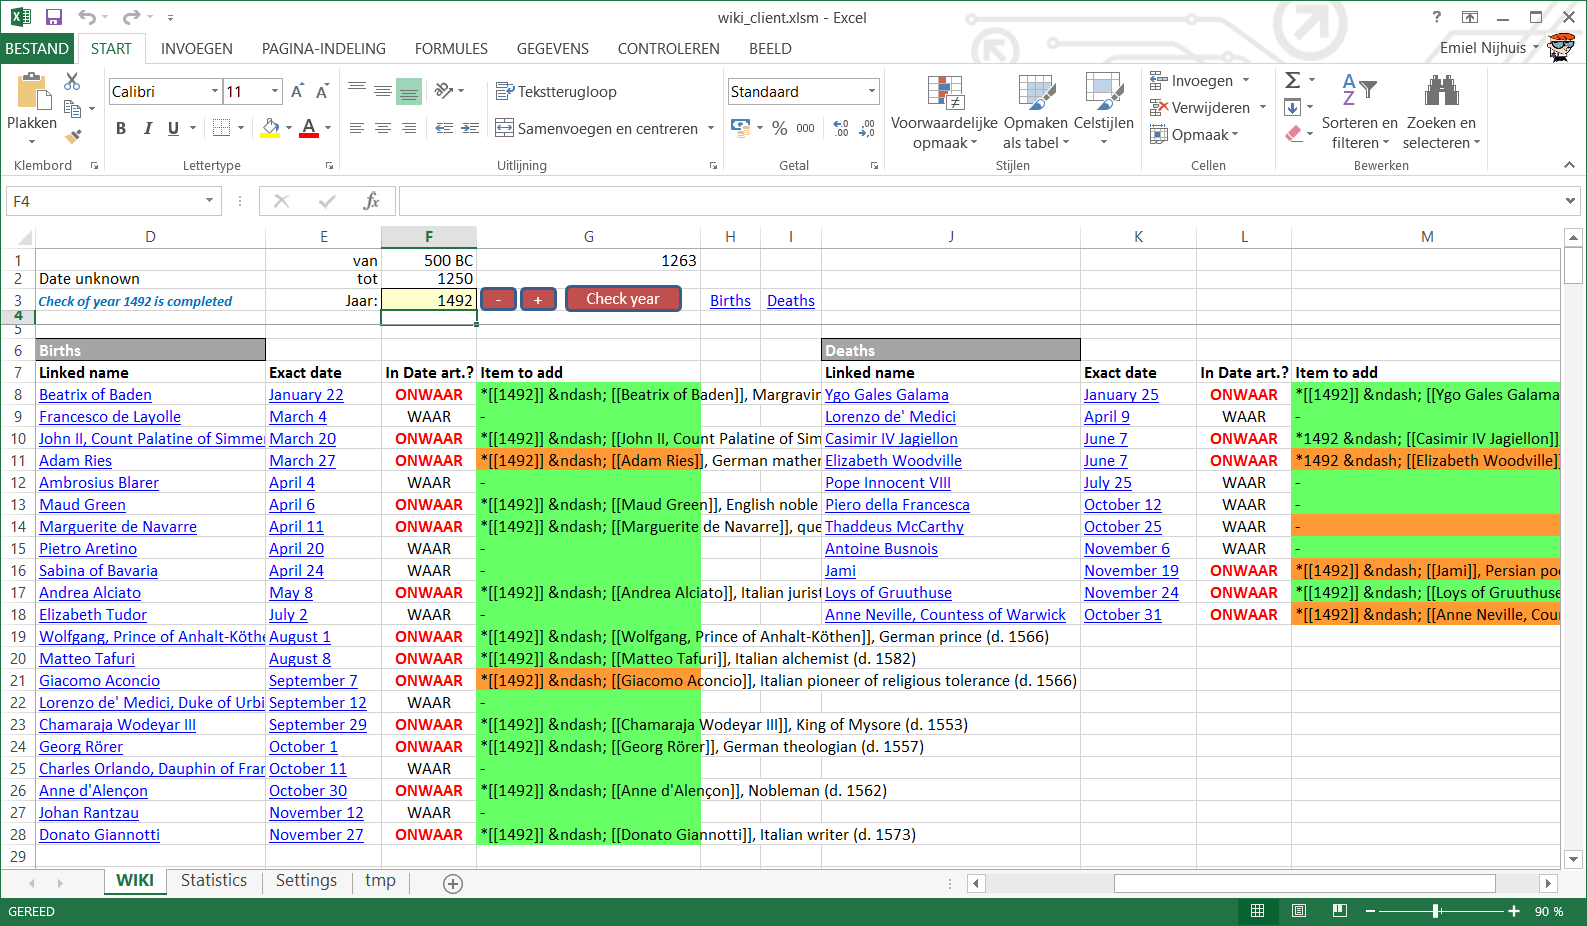button: (890, 74, 998, 151), (1114, 874, 1496, 893), (1402, 73, 1480, 149), (1322, 73, 1397, 149), (1002, 74, 1070, 152), (494, 116, 698, 138), (1075, 71, 1134, 146), (564, 284, 682, 312), (7, 71, 58, 132), (494, 80, 618, 103), (168, 870, 262, 895), (260, 40, 389, 57), (1, 33, 74, 64), (264, 870, 352, 895), (77, 32, 145, 62), (1149, 97, 1251, 117), (1196, 383, 1291, 403), (614, 39, 724, 56), (1148, 69, 1235, 91), (1148, 123, 1230, 144), (1439, 39, 1527, 57), (105, 870, 166, 895), (412, 39, 492, 57), (158, 39, 235, 57), (353, 870, 409, 895), (512, 39, 589, 56), (1238, 900, 1280, 926), (479, 287, 516, 311), (519, 287, 555, 311), (747, 40, 795, 56), (395, 78, 422, 105), (1564, 247, 1583, 284), (9, 6, 34, 28), (728, 117, 753, 139), (259, 117, 281, 139), (62, 97, 83, 120), (76, 7, 98, 28), (298, 118, 319, 139), (120, 8, 142, 28), (1282, 95, 1302, 117), (433, 80, 454, 100), (443, 873, 463, 894), (62, 69, 80, 91), (361, 189, 380, 211), (44, 7, 64, 26), (830, 118, 850, 138), (1284, 123, 1304, 143), (210, 117, 231, 136), (1283, 69, 1302, 90), (857, 118, 876, 138), (1539, 874, 1558, 893), (967, 874, 986, 893), (272, 191, 291, 209), (1564, 228, 1583, 247), (1564, 850, 1583, 869), (63, 128, 82, 146), (289, 79, 306, 98), (770, 119, 789, 137), (458, 120, 481, 134), (319, 193, 337, 209), (433, 120, 454, 134), (373, 84, 392, 98), (314, 80, 330, 98), (373, 121, 392, 134), (1291, 903, 1307, 918), (345, 79, 366, 91), (1461, 10, 1479, 24), (400, 121, 418, 136), (1527, 9, 1543, 24), (1561, 9, 1576, 24), (165, 120, 181, 136), (1332, 903, 1348, 918), (348, 121, 366, 134), (795, 122, 816, 133), (114, 119, 127, 136), (1431, 8, 1443, 25), (1507, 904, 1521, 918), (141, 120, 154, 136), (1562, 159, 1577, 171), (1496, 11, 1509, 23), (85, 104, 99, 114), (164, 11, 175, 23), (25, 134, 37, 146), (1564, 195, 1577, 205), (1432, 903, 1439, 919), (324, 160, 335, 171), (89, 159, 99, 171), (235, 192, 242, 207), (1530, 41, 1541, 51), (870, 160, 879, 171), (143, 12, 155, 21), (208, 86, 220, 95), (708, 160, 717, 170), (99, 12, 110, 21), (321, 123, 333, 131), (187, 122, 197, 131), (1240, 75, 1250, 84), (1306, 75, 1316, 84), (204, 195, 214, 204), (282, 123, 293, 131), (29, 877, 36, 889), (234, 123, 246, 130), (455, 86, 465, 94), (705, 123, 715, 131), (1257, 103, 1268, 109), (57, 877, 64, 889), (867, 86, 876, 94), (1305, 129, 1314, 137), (1364, 908, 1377, 914), (270, 87, 280, 94), (754, 123, 764, 130), (1304, 103, 1314, 109), (1230, 130, 1239, 137)
common: (8, 906, 55, 917), (1534, 905, 1564, 917)
container: (1, 223, 1587, 897), (1, 63, 1587, 175), (1, 1, 1587, 63), (1, 174, 1587, 224), (1, 870, 1587, 898), (338, 63, 723, 175), (1, 900, 1586, 926), (884, 63, 1141, 175), (104, 63, 338, 175), (1275, 63, 1487, 175), (723, 63, 884, 175), (1141, 63, 1275, 175), (1564, 228, 1583, 869), (1, 63, 104, 175), (1487, 63, 1587, 175), (967, 874, 1558, 893), (494, 116, 717, 140), (6, 69, 60, 148), (258, 185, 395, 215), (1363, 901, 1522, 920), (1149, 97, 1270, 118), (1148, 68, 1253, 91), (1148, 123, 1241, 146), (1439, 39, 1542, 58), (62, 96, 101, 121), (298, 117, 334, 139), (76, 7, 111, 29), (259, 117, 294, 139), (1282, 95, 1314, 118), (121, 8, 156, 29), (210, 117, 247, 137), (1283, 69, 1316, 90), (1284, 123, 1314, 144), (164, 119, 198, 136)
header: (715, 8, 870, 26), (495, 157, 548, 174), (182, 159, 241, 173), (13, 158, 72, 172), (994, 157, 1032, 175), (1353, 159, 1408, 170), (1189, 157, 1226, 173), (778, 158, 809, 172)
image: (1547, 33, 1576, 63)
table: (1, 225, 1562, 866)
table-cell: (1291, 224, 1561, 248), (821, 224, 1080, 248), (1291, 535, 1561, 558), (1291, 755, 1561, 778), (821, 689, 1080, 712), (821, 821, 1080, 844), (1291, 403, 1561, 426), (1291, 426, 1561, 448), (1291, 448, 1561, 470), (1291, 470, 1561, 492), (1291, 513, 1561, 535), (1291, 558, 1561, 580), (1291, 580, 1561, 602), (1291, 602, 1561, 624), (1291, 624, 1561, 646), (1291, 646, 1561, 668), (1291, 668, 1561, 690), (1291, 690, 1561, 712), (1291, 778, 1561, 800), (1291, 800, 1561, 822), (1291, 844, 1561, 866), (1292, 287, 1561, 309), (1292, 338, 1561, 360), (1292, 360, 1561, 383), (1291, 733, 1559, 755), (1291, 822, 1559, 844), (821, 287, 1080, 309), (821, 338, 1080, 360), (821, 360, 1080, 383), (821, 403, 1080, 426), (821, 426, 1080, 448), (821, 448, 1080, 470), (821, 470, 1080, 492), (821, 492, 1080, 514), (821, 514, 1080, 536), (821, 536, 1080, 558), (821, 558, 1080, 580), (821, 580, 1080, 602), (821, 602, 1080, 624), (821, 624, 1080, 646), (821, 646, 1080, 668), (821, 712, 1080, 734), (821, 734, 1080, 756), (821, 756, 1080, 778), (821, 778, 1080, 800), (1291, 248, 1561, 269), (1291, 383, 1561, 403), (1291, 492, 1561, 513), (1291, 712, 1561, 733), (35, 224, 264, 248), (476, 224, 700, 248), (821, 248, 1080, 269), (821, 383, 1080, 403), (821, 668, 1080, 689), (821, 800, 1080, 821), (821, 844, 1080, 865), (35, 535, 264, 558), (476, 287, 700, 310), (35, 248, 264, 270), (35, 288, 264, 310), (35, 338, 264, 360), (35, 360, 264, 383), (35, 403, 264, 426), (35, 426, 264, 448), (35, 448, 264, 470), (35, 470, 264, 492), (35, 492, 264, 514), (35, 558, 264, 580), (35, 580, 264, 602), (35, 602, 264, 624), (35, 624, 264, 646), (35, 646, 264, 668), (35, 668, 264, 690), (35, 690, 264, 712), (35, 712, 264, 734), (35, 734, 264, 756), (35, 756, 264, 778), (35, 778, 264, 800), (35, 821, 264, 843), (35, 843, 264, 865), (475, 668, 700, 690), (475, 690, 700, 712), (475, 712, 700, 734), (475, 734, 700, 756), (475, 756, 700, 778), (475, 800, 700, 822), (475, 822, 700, 844), (475, 843, 700, 865), (476, 248, 700, 270), (476, 338, 700, 360), (476, 360, 700, 383), (476, 403, 700, 426), (476, 426, 700, 448), (476, 448, 700, 470), (476, 470, 700, 492), (476, 492, 700, 514), (476, 514, 700, 536), (476, 536, 700, 558), (476, 558, 700, 580), (476, 580, 700, 602), (476, 602, 700, 624), (475, 778, 699, 800), (35, 383, 264, 403), (35, 514, 264, 535), (35, 800, 264, 821), (1292, 269, 1561, 287), (476, 383, 700, 403), (476, 624, 700, 645), (476, 646, 700, 667), (821, 269, 1080, 287), (1292, 309, 1561, 324), (35, 270, 264, 288), (821, 309, 1080, 324), (1292, 324, 1561, 338), (821, 324, 1080, 338), (476, 270, 700, 287), (35, 309, 264, 324), (476, 309, 700, 324), (476, 324, 700, 338), (35, 324, 264, 337), (264, 224, 381, 248), (1080, 224, 1196, 248), (264, 535, 381, 558), (1080, 513, 1196, 536), (1080, 755, 1196, 778), (264, 248, 381, 270), (264, 338, 381, 360), (264, 360, 381, 383), (264, 403, 381, 426), (264, 426, 381, 448), (264, 448, 381, 470), (264, 470, 381, 492), (264, 492, 381, 514), (264, 558, 381, 580), (264, 580, 381, 602), (264, 602, 381, 624), (264, 624, 381, 646), (264, 646, 381, 668), (264, 668, 381, 690), (264, 690, 381, 712), (264, 712, 381, 734), (264, 734, 381, 756), (264, 756, 381, 778), (264, 778, 381, 800), (264, 821, 381, 843), (264, 843, 381, 865), (1080, 287, 1197, 309), (264, 288, 380, 310), (1081, 338, 1197, 360), (1081, 360, 1197, 383), (1080, 403, 1196, 426), (1080, 426, 1196, 448), (1080, 448, 1196, 470), (1080, 470, 1196, 492), (1080, 536, 1196, 558), (1080, 558, 1196, 580), (1080, 580, 1196, 602), (1080, 602, 1196, 624), (1080, 624, 1196, 646), (1080, 646, 1196, 668), (1080, 668, 1196, 690), (1080, 690, 1196, 712), (1080, 733, 1196, 755), (1080, 778, 1196, 800), (1080, 800, 1196, 822), (1080, 822, 1196, 844), (1080, 844, 1196, 866), (264, 383, 381, 403), (264, 514, 381, 535), (264, 800, 381, 821), (1080, 248, 1196, 269), (1080, 492, 1196, 513), (1080, 712, 1196, 733), (381, 224, 476, 248), (1196, 224, 1291, 248), (1196, 513, 1291, 536), (1196, 755, 1291, 778), (381, 821, 475, 844), (381, 248, 476, 270), (381, 338, 476, 360), (381, 360, 476, 383), (381, 403, 476, 426), (381, 426, 476, 448), (381, 448, 476, 470), (381, 470, 476, 492), (381, 492, 476, 514), (381, 514, 476, 536), (381, 536, 476, 558), (381, 558, 476, 580), (381, 580, 476, 602), (381, 602, 476, 624), (381, 624, 476, 646), (381, 646, 476, 668), (1197, 338, 1292, 360), (1197, 360, 1292, 383), (1196, 403, 1291, 426), (1196, 448, 1291, 470), (1196, 470, 1291, 492), (1196, 536, 1291, 558), (1196, 558, 1291, 580), (1196, 580, 1291, 602), (1196, 602, 1291, 624), (1196, 624, 1291, 646), (1196, 646, 1291, 668), (1196, 668, 1291, 690), (1196, 690, 1291, 712), (1196, 733, 1291, 755), (1196, 778, 1291, 800), (1196, 800, 1291, 822), (1196, 822, 1291, 844), (1196, 844, 1291, 866), (381, 668, 475, 690), (381, 690, 475, 712), (381, 712, 475, 734), (381, 734, 475, 756), (381, 756, 475, 778), (381, 778, 475, 800), (381, 843, 475, 865), (1197, 287, 1291, 309), (264, 270, 381, 288), (1080, 269, 1196, 287), (1196, 248, 1291, 269), (381, 288, 476, 309), (381, 383, 476, 403), (1196, 426, 1291, 446), (1196, 492, 1291, 513), (1196, 712, 1291, 733), (381, 800, 475, 821), (264, 309, 380, 324), (1081, 309, 1197, 324), (1196, 269, 1291, 287), (1081, 324, 1197, 338), (381, 270, 476, 287), (264, 324, 381, 337), (700, 224, 760, 248), (760, 224, 821, 248), (381, 309, 476, 324), (1197, 309, 1292, 324), (759, 689, 821, 712), (700, 821, 760, 844), (760, 821, 821, 844), (700, 689, 759, 712), (759, 712, 821, 734), (759, 734, 821, 756), (381, 324, 476, 338), (1197, 324, 1292, 338), (700, 248, 760, 270), (700, 287, 760, 309), (700, 338, 760, 360), (700, 360, 760, 383), (700, 403, 760, 426), (700, 426, 760, 448), (700, 448, 760, 470), (700, 470, 760, 492), (700, 492, 760, 514), (700, 514, 760, 536), (700, 536, 760, 558), (700, 558, 760, 580), (700, 580, 760, 602), (700, 602, 760, 624), (700, 624, 760, 646), (700, 645, 760, 667), (700, 756, 760, 778), (700, 778, 760, 800), (700, 800, 760, 822), (760, 287, 821, 309), (760, 338, 821, 360), (760, 360, 821, 383), (760, 403, 821, 426), (760, 426, 821, 448), (760, 448, 821, 470), (760, 470, 821, 492), (760, 492, 821, 514), (760, 514, 821, 536), (760, 536, 821, 558), (760, 558, 821, 580), (760, 580, 821, 602), (760, 602, 821, 624), (760, 624, 821, 646), (760, 646, 821, 668), (760, 756, 821, 778), (760, 778, 821, 800), (760, 844, 821, 866), (700, 667, 759, 689), (700, 712, 759, 734), (700, 734, 759, 756), (760, 248, 821, 269), (700, 383, 760, 403), (700, 844, 760, 865), (760, 383, 821, 403), (760, 668, 821, 689), (760, 800, 821, 821), (700, 270, 760, 287), (760, 270, 821, 287), (700, 309, 760, 324), (760, 309, 821, 324), (700, 324, 760, 338), (760, 324, 821, 338), (1, 224, 35, 249), (1, 535, 35, 559), (1, 248, 35, 270), (1, 338, 35, 360), (1, 360, 35, 383), (1, 403, 35, 426), (1, 426, 35, 448), (1, 448, 35, 470), (1, 470, 35, 492), (1, 492, 35, 514), (1, 558, 35, 580), (1, 580, 35, 602), (1, 602, 35, 624), (1, 624, 35, 646), (1, 646, 35, 668), (1, 668, 35, 690), (1, 690, 35, 712), (1, 712, 35, 734), (1, 734, 35, 756), (1, 756, 35, 778), (1, 778, 35, 800), (1, 800, 35, 822), (1, 821, 35, 843), (1, 844, 35, 866), (1, 288, 35, 309), (1, 383, 35, 403), (1, 514, 35, 535), (1, 270, 35, 288), (1, 309, 35, 324), (1, 324, 35, 340)
table-row: (1, 225, 1561, 249), (1, 536, 1561, 559), (1, 756, 1561, 779), (1, 288, 1561, 310), (1, 360, 1561, 383), (1, 383, 1561, 405), (1, 405, 1561, 427), (1, 427, 1561, 449), (1, 449, 1561, 471), (1, 471, 1561, 493), (1, 514, 1561, 536), (1, 559, 1561, 581), (1, 581, 1561, 603), (1, 603, 1561, 625), (1, 625, 1561, 647), (1, 647, 1561, 669), (1, 669, 1561, 691), (1, 691, 1561, 713), (1, 734, 1561, 756), (1, 779, 1561, 801), (1, 801, 1561, 823), (1, 823, 1561, 846), (1, 249, 1561, 270), (1, 340, 1561, 360), (1, 493, 1561, 514), (1, 713, 1561, 734), (1, 846, 1561, 866), (1, 270, 1561, 288), (1, 310, 1561, 325), (1, 325, 1561, 340)
text-input: (399, 185, 1580, 215), (6, 186, 222, 215), (727, 77, 879, 104), (109, 78, 223, 104), (1080, 383, 1196, 403), (223, 78, 283, 104)
